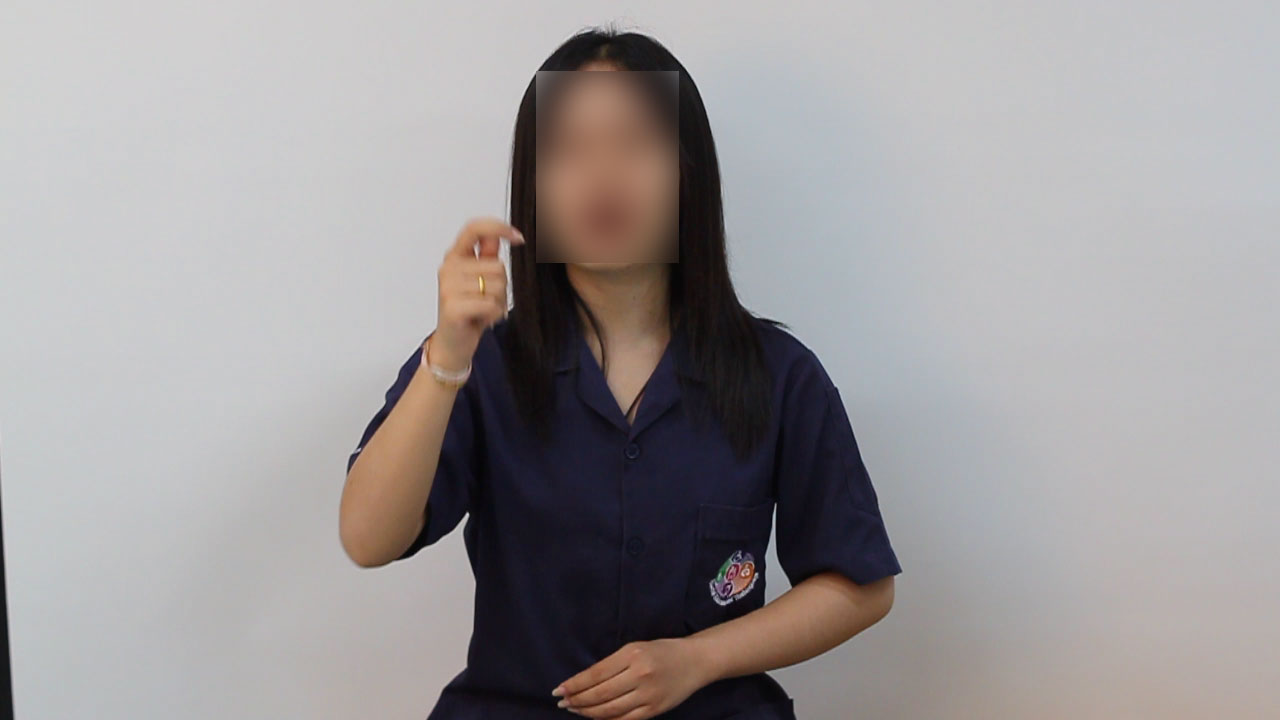or: (425, 214, 528, 370)
